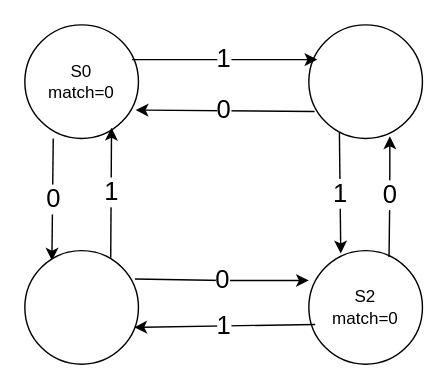
Some shapes in this 447 by 389 pixel diagram are drawn without their labels. The box of each missing label's shape, as (x1, y1, x2, y2) in pixels:
S1 match=0: (307, 23, 422, 138)
S3 match=1: (23, 249, 138, 364)
